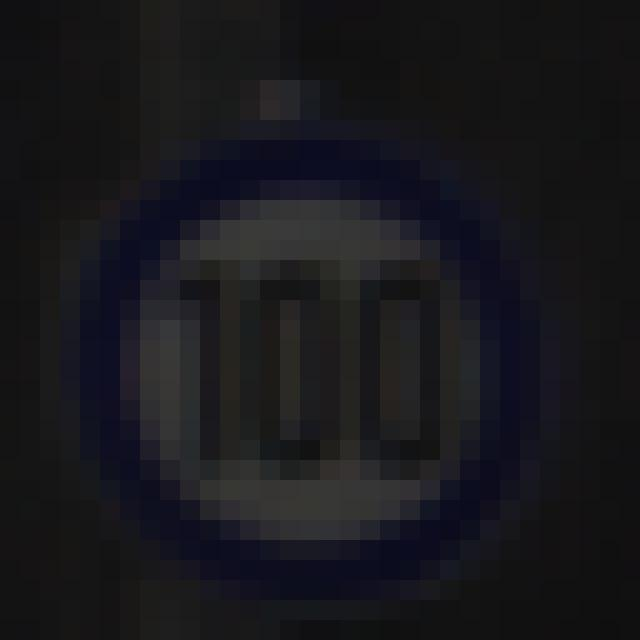SPEED LIMIT 100: (72, 132, 540, 590)
